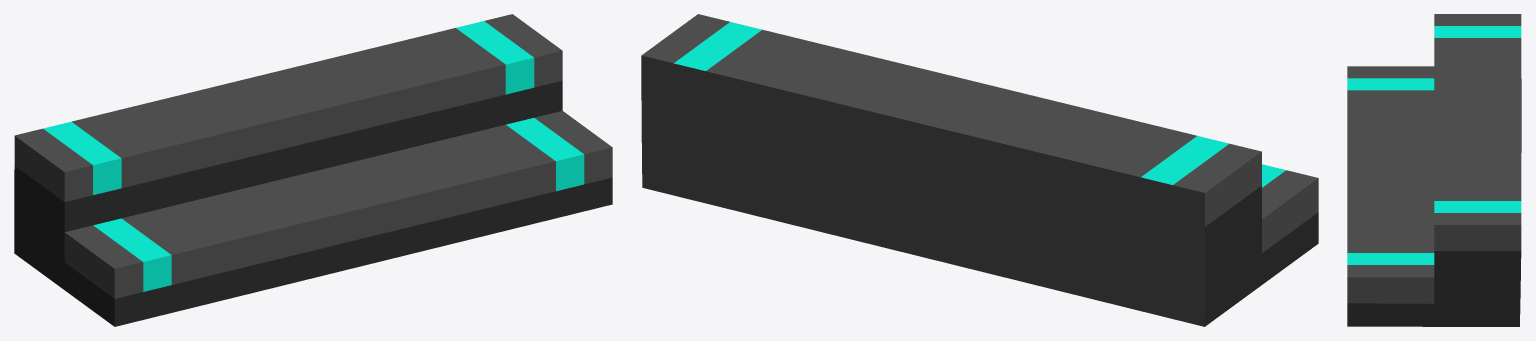
Rendered from SM_Prop_StripClub_Half-Step_01_Modified.fbx.
The picture shows the model from 3 angles, left to right: view 1: azimuth 30°, elevation 25°; view 2: azimuth 150°, elevation 25°; view 3: azimuth 270°, elevation 25°; orthographic projection. The views are drawn at different scales.
Parts seen in each view (by area): view 1: SM_Prop_StripClub_Steps_01, SM_Prop_StripClub_Steps_01.001; view 2: SM_Prop_StripClub_Steps_01, SM_Prop_StripClub_Steps_01.001; view 3: SM_Prop_StripClub_Steps_01, SM_Prop_StripClub_Steps_01.001.
Part boxes in pixels (<box>): SM_Prop_StripClub_Steps_01: <box>14,14,612,326</box>; SM_Prop_StripClub_Steps_01.001: <box>43,21,584,291</box>; SM_Prop_StripClub_Steps_01: <box>641,14,1318,326</box>; SM_Prop_StripClub_Steps_01.001: <box>674,22,1285,187</box>; SM_Prop_StripClub_Steps_01: <box>1347,14,1521,326</box>; SM_Prop_StripClub_Steps_01.001: <box>1347,26,1521,264</box>.
Bounding box in the file's own units: 110 × 24.89 × 38.42.
